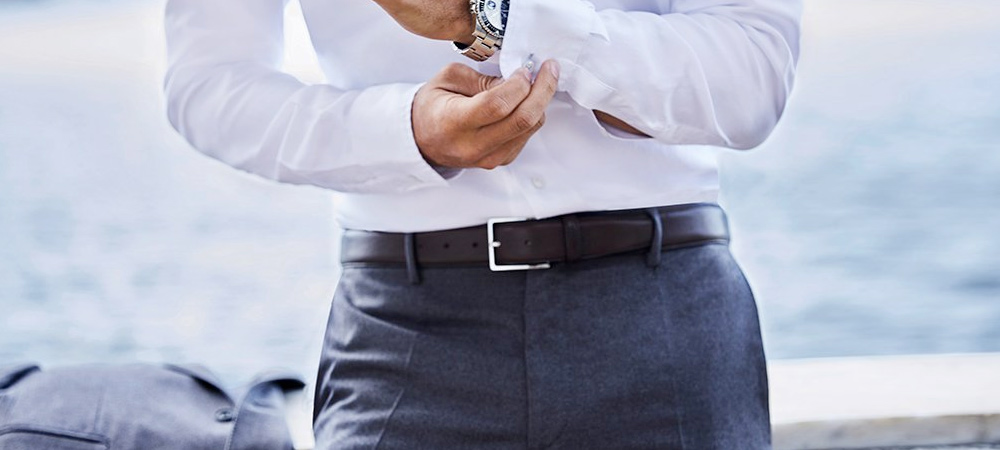F_belt: (331, 207, 748, 272)
F_dress pants: (321, 221, 776, 450)
